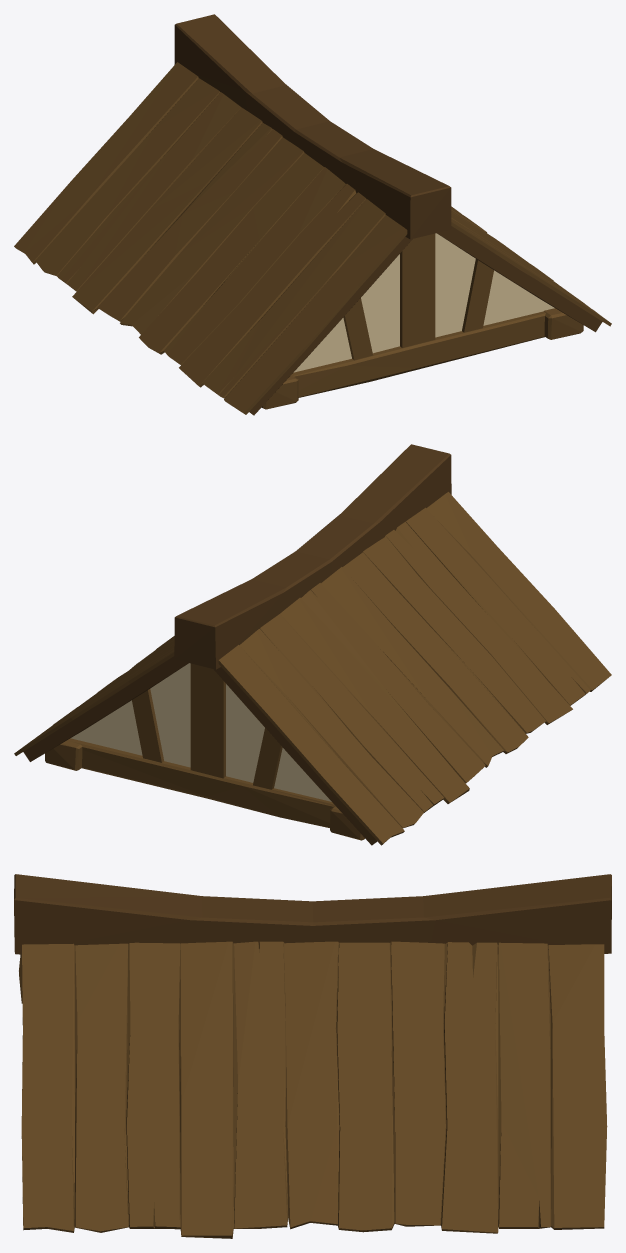
The model's file is Roof_02.fbx.
3 views of the same model, one above another, from view 1: azimuth 30°, elevation 25°; view 2: azimuth 150°, elevation 25°; view 3: azimuth 270°, elevation 25° (orthographic). The views are drawn at different scales.
Parts seen in each view (by area): view 1: Roof_02; view 2: Roof_02; view 3: Roof_02.
Boxes of the visible parts, x1,y1,x2,y2 form: Roof_02: (14,14,611,415); Roof_02: (14,444,611,845); Roof_02: (14,874,611,1238).
Size of the model in its own units: 6.13 by 2.9 by 6.63.
